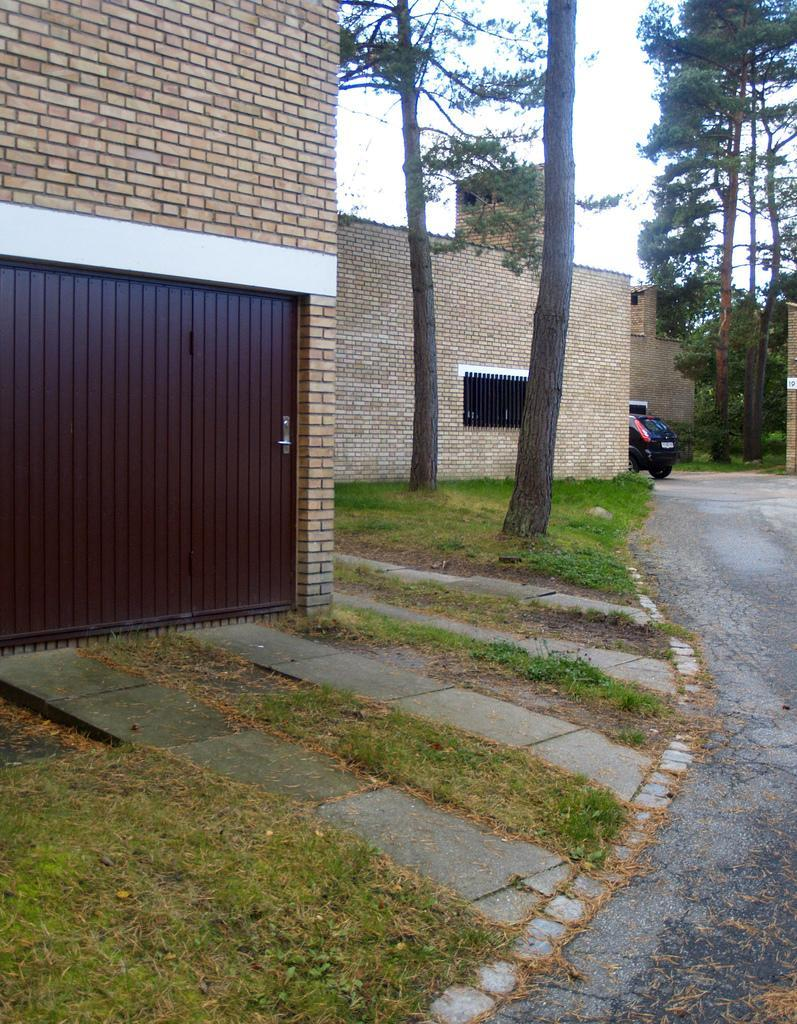door: (190, 294, 298, 610)
handle: (275, 424, 294, 461)
